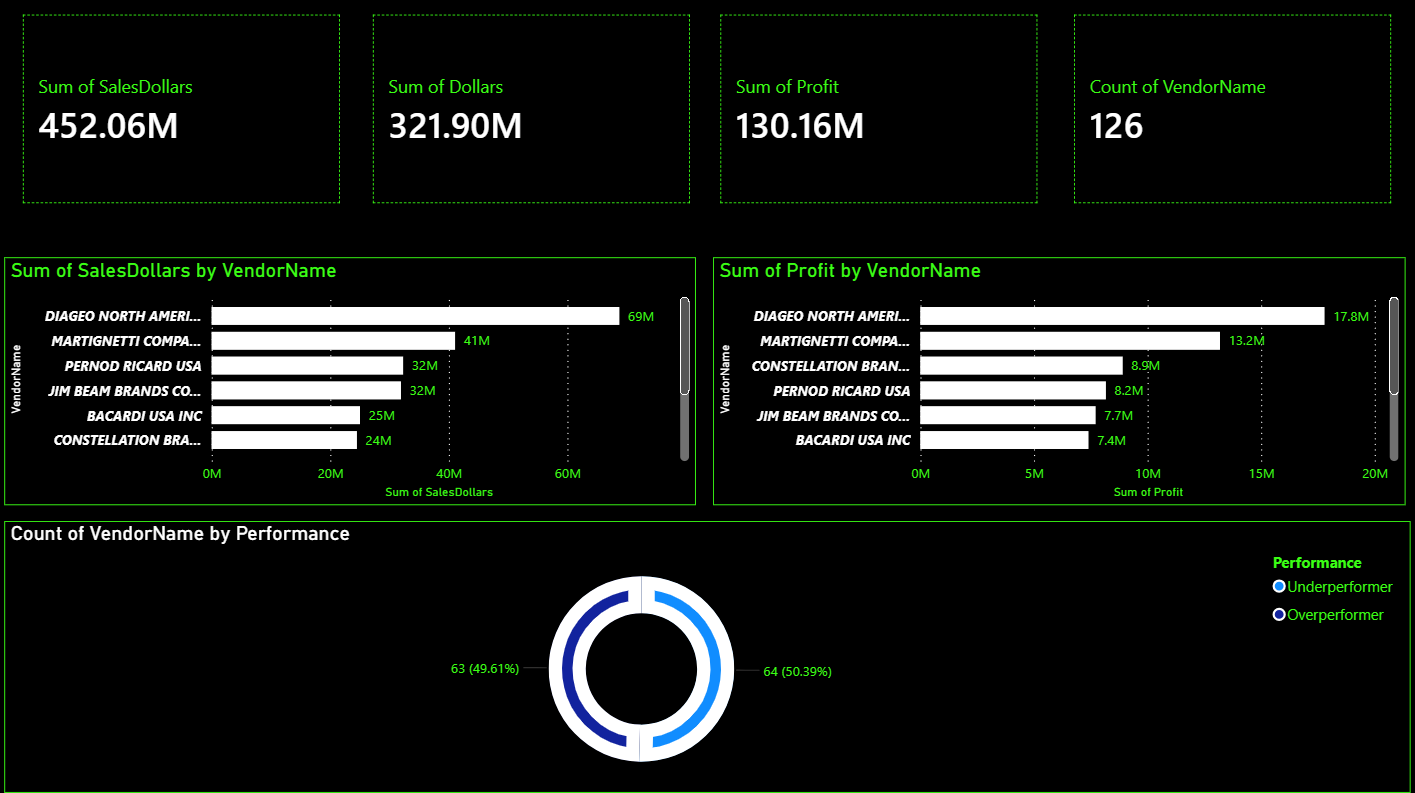

The dashboard page shown, as its layout file describes it:
{"tool":"powerbi","page":{"name":"Executive Dashboard","canvas":[1280,720],"ordinal":0},"visuals":[{"type":"cardVisual","fields":{"Data":["Sum(vendor_summary.SalesDollars)"]},"box":[5.7,0,320,204.3],"z":0},{"type":"cardVisual","fields":{"Data":["Sum(vendor_summary.Dollars)"]},"box":[321.4,0,320,204.3],"z":1000},{"type":"cardVisual","fields":{"Data":["Sum(vendor_summary.Profit)"]},"box":[635.7,0,320,204.3],"z":2000},{"type":"cardVisual","fields":{"Data":["Count(vendor_summary.VendorName)"]},"box":[955.7,0,320,204.3],"z":3000},{"type":"clusteredBarChart","fields":{"Category":["vendor_summary.VendorName"],"Y":["Sum(vendor_summary.SalesDollars)"]},"box":[5.7,235.7,625,224.3],"z":4000},{"type":"clusteredBarChart","fields":{"Category":["vendor_summary.VendorName"],"Y":["Sum(vendor_summary.Profit)"]},"box":[645.7,235.7,625.7,224.3],"z":5000},{"type":"donutChart","fields":{"Category":["vendor_summary.Performance"],"Y":["CountNonNull(vendor_summary.VendorName)"]},"box":[5.7,474.3,1270,245.7],"z":6000}]}

Visuals, with their boxes in screenshot pixels (x1, y1, x2, y2), scaled from the page's 1280x720 canvas onto the 1415x793 screenshot:
cardVisual - Sum(vendor_summary.SalesDollars): (x1=6, y1=0, x2=360, y2=225)
cardVisual - Sum(vendor_summary.Dollars): (x1=355, y1=0, x2=709, y2=225)
cardVisual - Sum(vendor_summary.Profit): (x1=703, y1=0, x2=1056, y2=225)
cardVisual - Count(vendor_summary.VendorName): (x1=1056, y1=0, x2=1410, y2=225)
clusteredBarChart - vendor_summary.VendorName x Sum(vendor_summary.SalesDollars): (x1=6, y1=260, x2=697, y2=507)
clusteredBarChart - vendor_summary.VendorName x Sum(vendor_summary.Profit): (x1=714, y1=260, x2=1405, y2=507)
donutChart - vendor_summary.Performance x CountNonNull(vendor_summary.VendorName): (x1=6, y1=522, x2=1410, y2=792)
